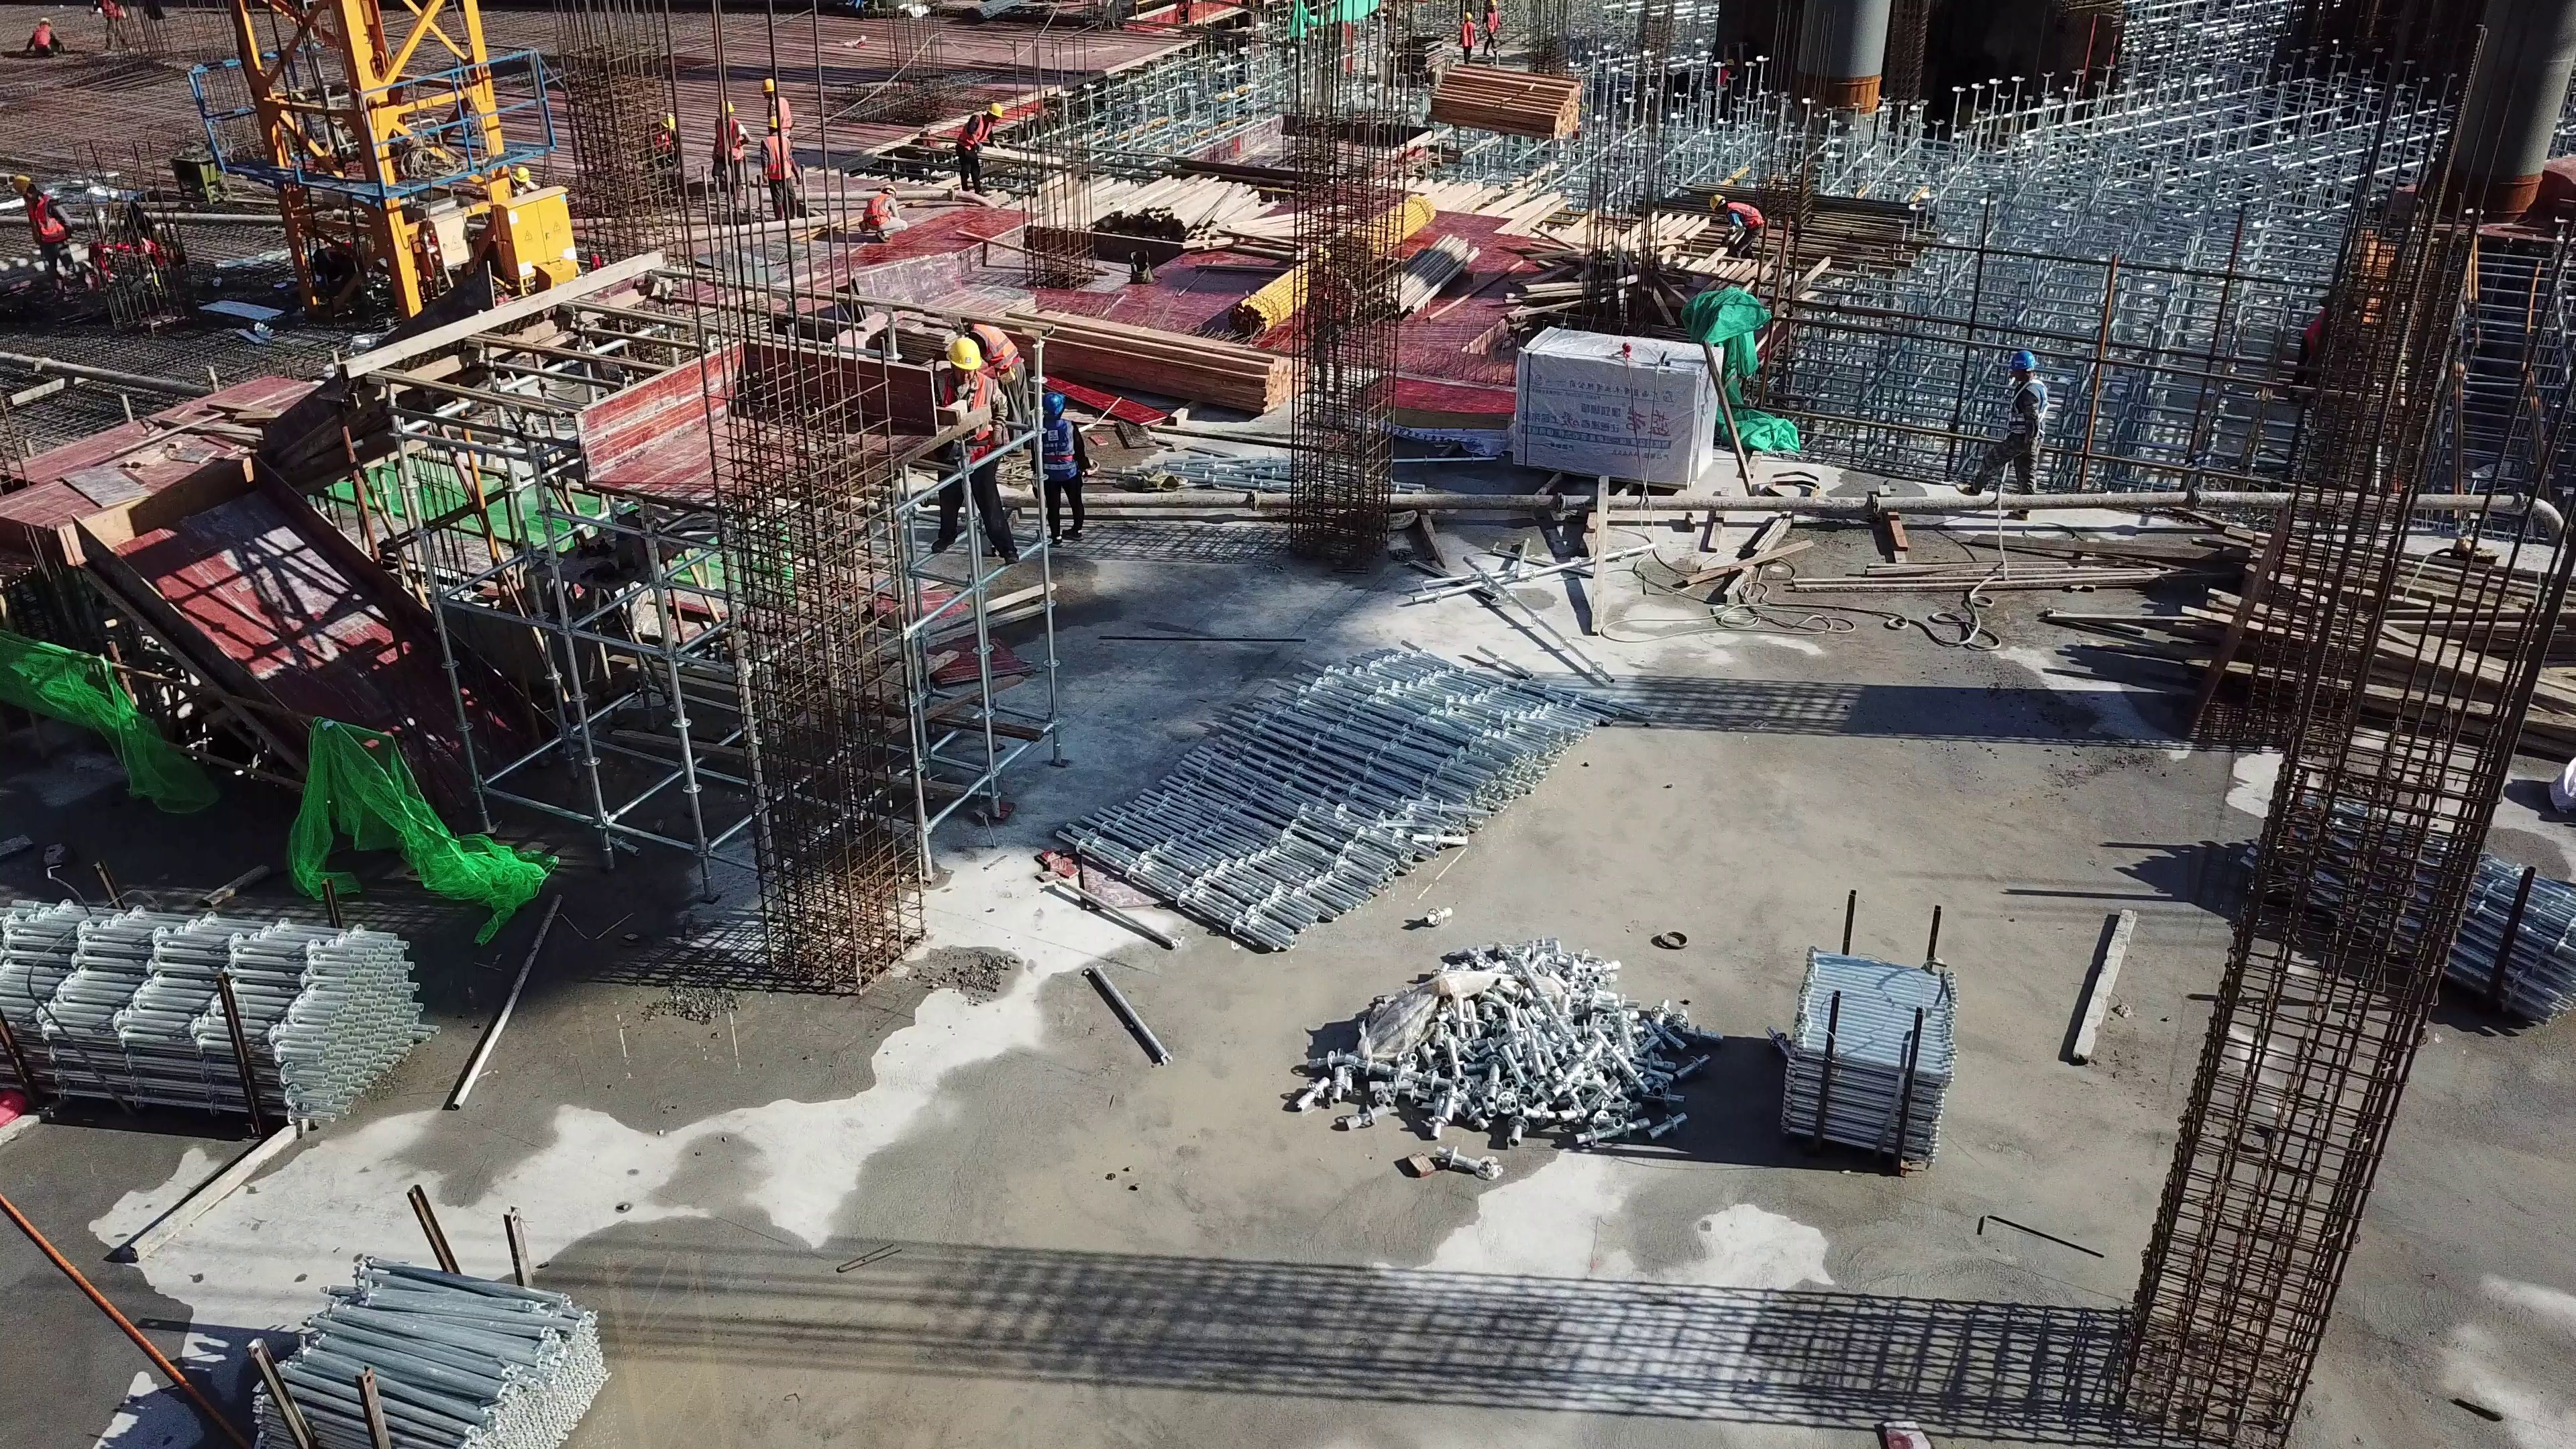helmet: (947, 338, 983, 372), (2005, 350, 2037, 373), (1043, 390, 1064, 416), (13, 174, 30, 195), (515, 170, 531, 184), (661, 113, 676, 128), (987, 105, 1003, 119), (715, 107, 733, 117), (1711, 192, 1723, 206), (769, 115, 779, 132), (1466, 11, 1477, 24), (767, 77, 776, 94)
person: (930, 337, 1018, 564), (1955, 350, 2047, 522), (1034, 390, 1086, 543), (969, 321, 1028, 454), (1305, 249, 1358, 400), (15, 174, 73, 278), (957, 104, 1000, 193), (761, 117, 798, 218), (711, 103, 746, 202), (1709, 193, 1760, 258), (2294, 304, 2325, 399), (861, 186, 908, 243), (643, 114, 682, 166), (761, 76, 792, 140), (25, 17, 66, 56), (98, 1, 128, 51), (1482, 1, 1502, 54), (1458, 11, 1476, 64), (509, 167, 540, 197)
vest: (941, 375, 993, 458), (1035, 418, 1080, 476), (970, 324, 1015, 370), (2007, 381, 2044, 434), (26, 198, 68, 244), (717, 117, 747, 167), (764, 137, 793, 181), (2304, 309, 2324, 359), (1725, 202, 1763, 230), (959, 115, 993, 146), (863, 194, 892, 225), (773, 97, 792, 136), (34, 25, 54, 48), (1462, 21, 1474, 47), (1488, 12, 1500, 33), (1717, 67, 1729, 85)
